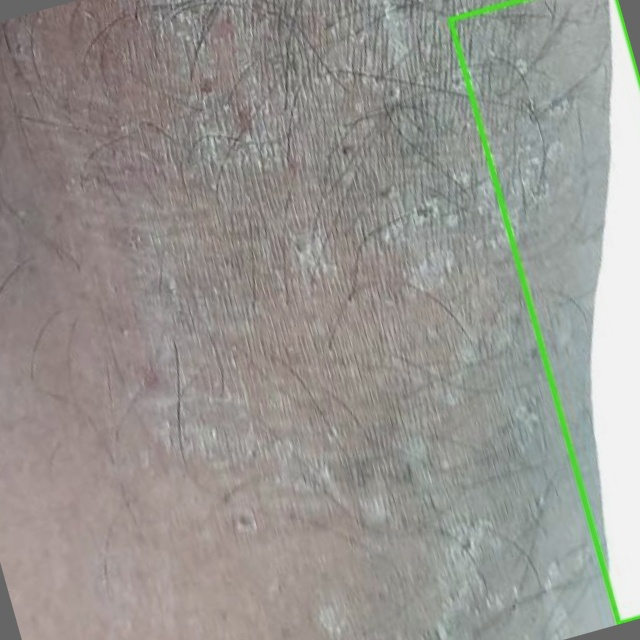Contact Dermatitis: (449, 0, 639, 623)
